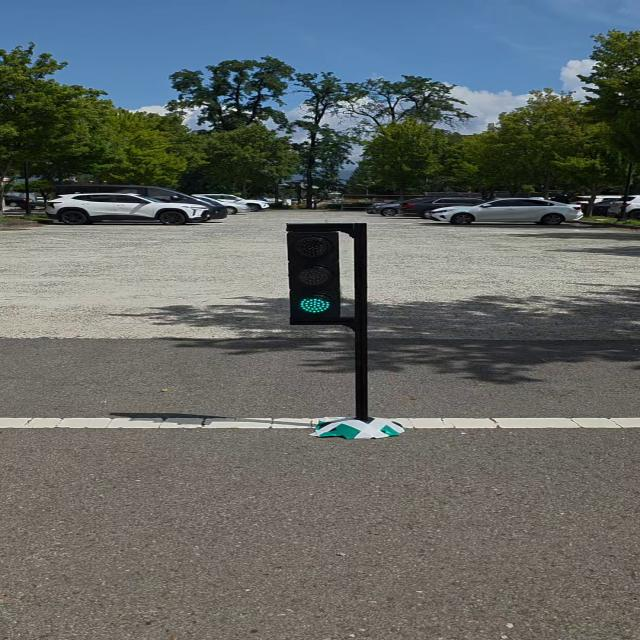green: (284, 226, 346, 324)
